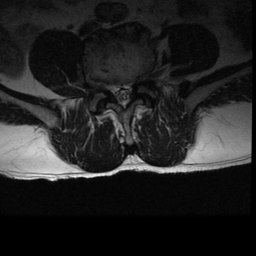CCS_normal: (118, 80, 127, 111)
LFS_stenosis: (134, 72, 143, 92)
LLS_normal: (126, 78, 134, 100)
RFS_normal: (101, 79, 110, 98)
RLS_normal: (110, 80, 118, 101)
